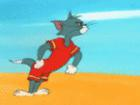tom: (8, 11, 89, 96)
